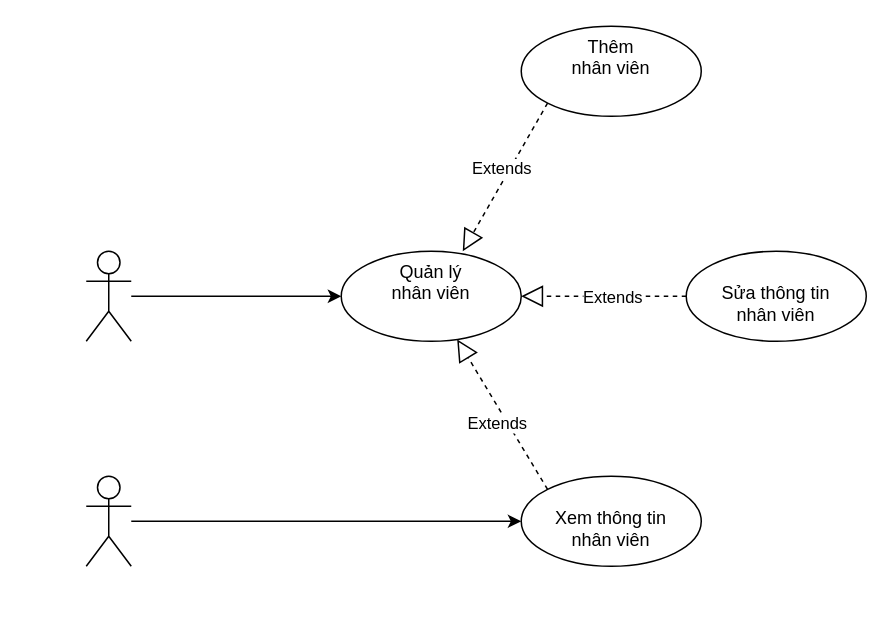
Some shapes in this 893 by 624 pixel diagram are drawn without their labels. Each missing label, with the centre of its shape:
"Nhân viên bán thuốc" goes at point (108, 520).
"Quản lý" goes at point (108, 295).
